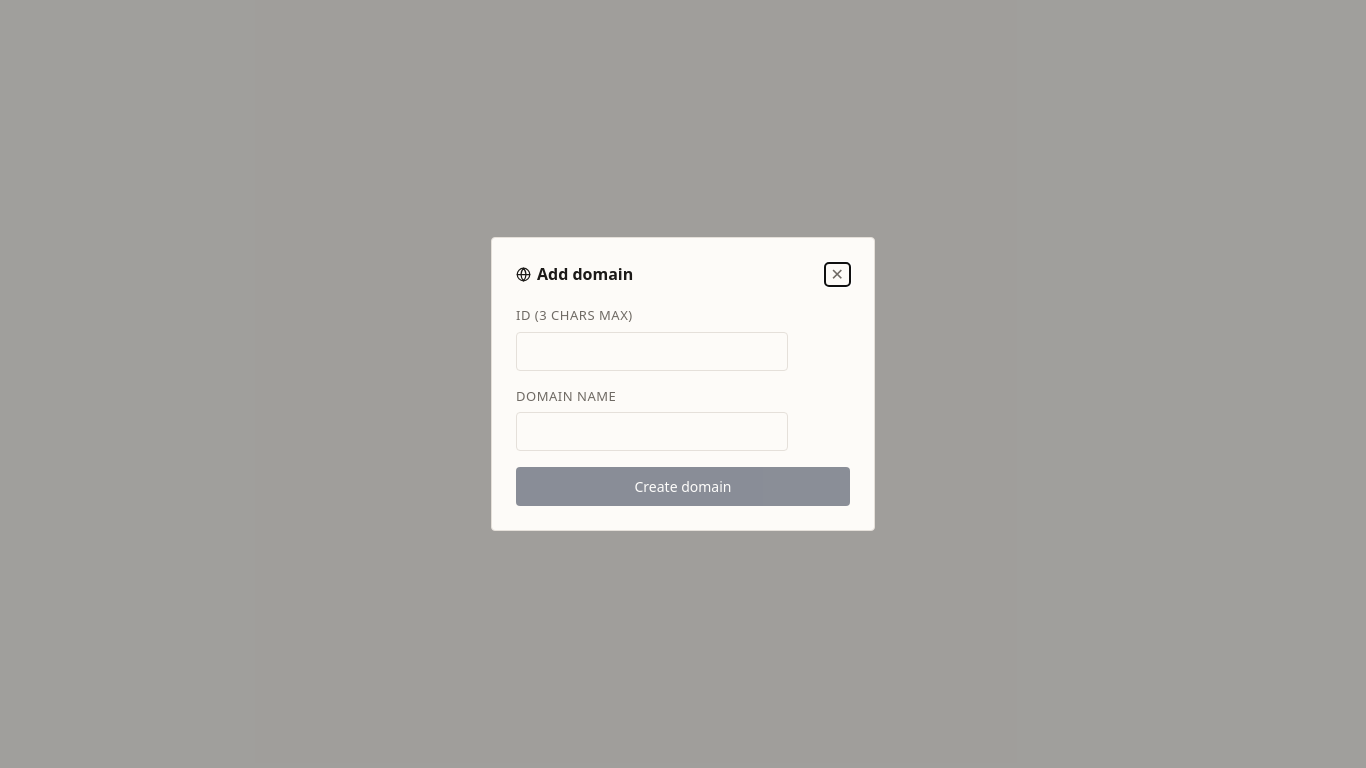
Test case: AddEditDomainModal — accessible field names › the error banner announces the local fallback as an alert
This screenshot has width=1366, height=768.
In the field labelled "ID (3 chars max)": (652, 351) top-left (516, 332), bottom-right (788, 370), type "TST"
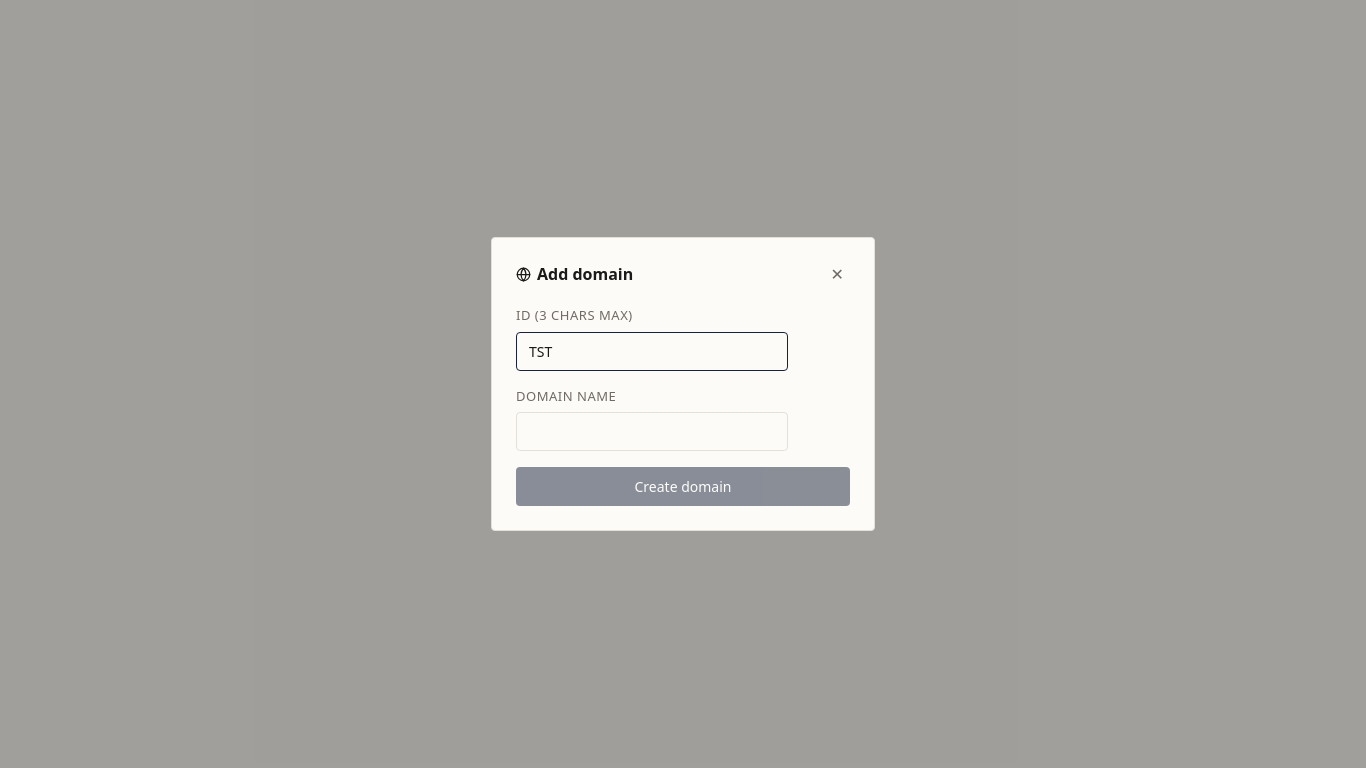
In the field labelled "Domain name": (652, 432) top-left (516, 412), bottom-right (788, 451), type "test.com"
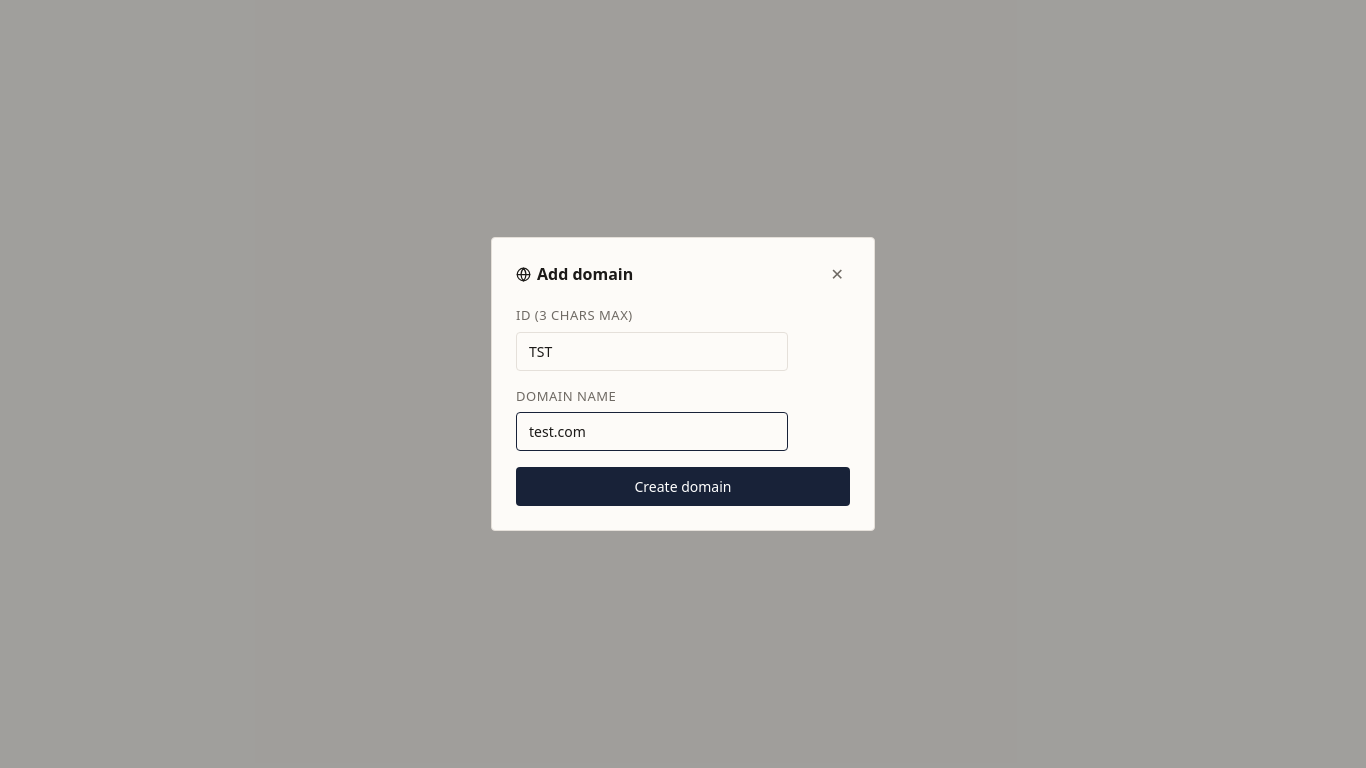
Click the button "Create domain": (683, 486) top-left (516, 467), bottom-right (850, 506)
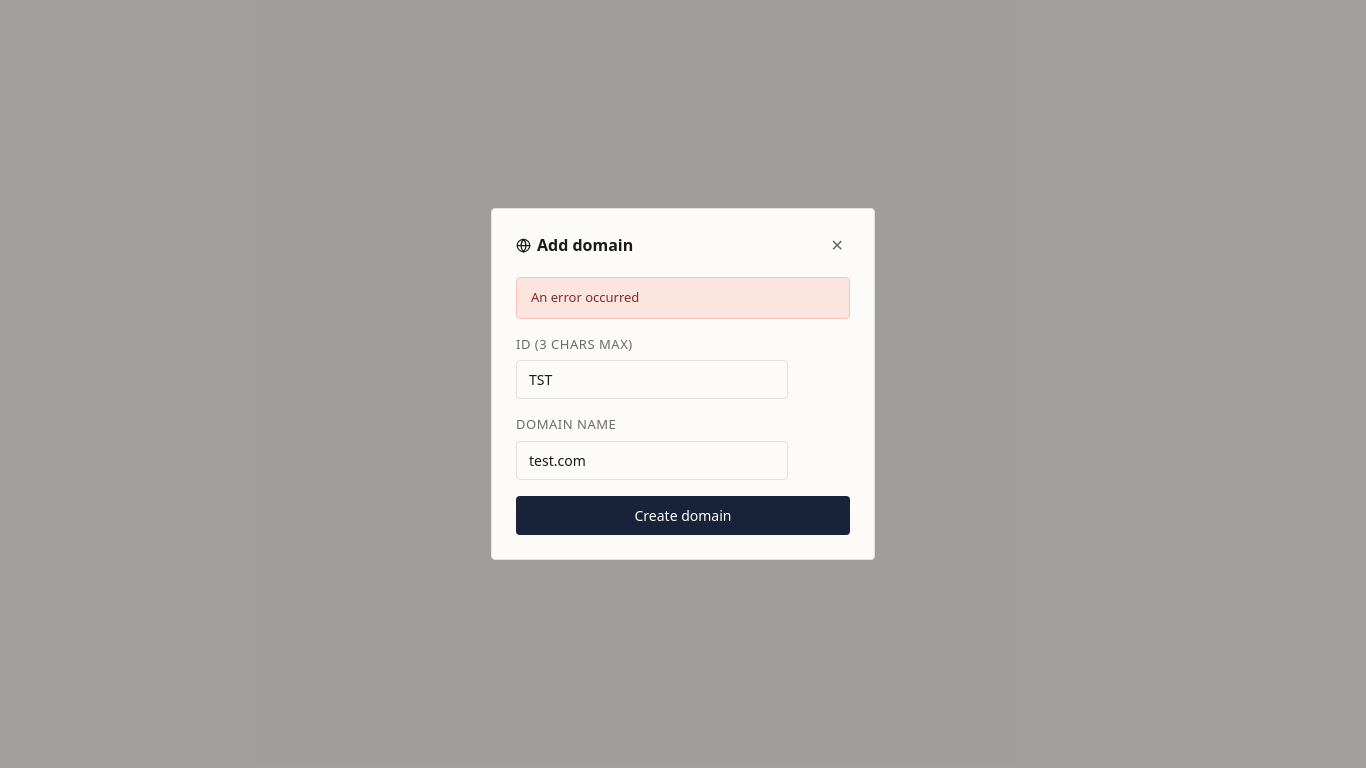
Expected: the message reads "An error occurred", top-left (531, 288), bottom-right (639, 306)
